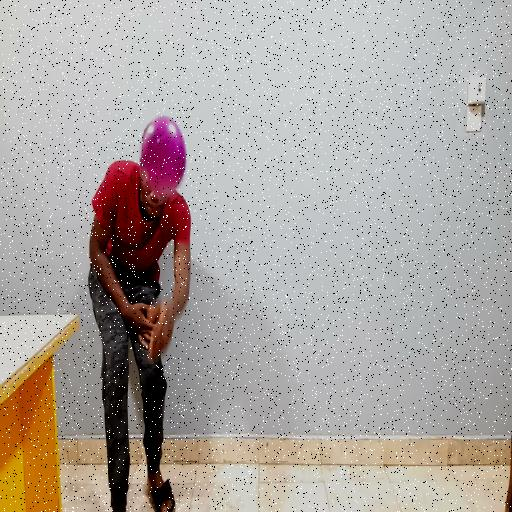plastic-ball: (140, 113, 186, 200)
